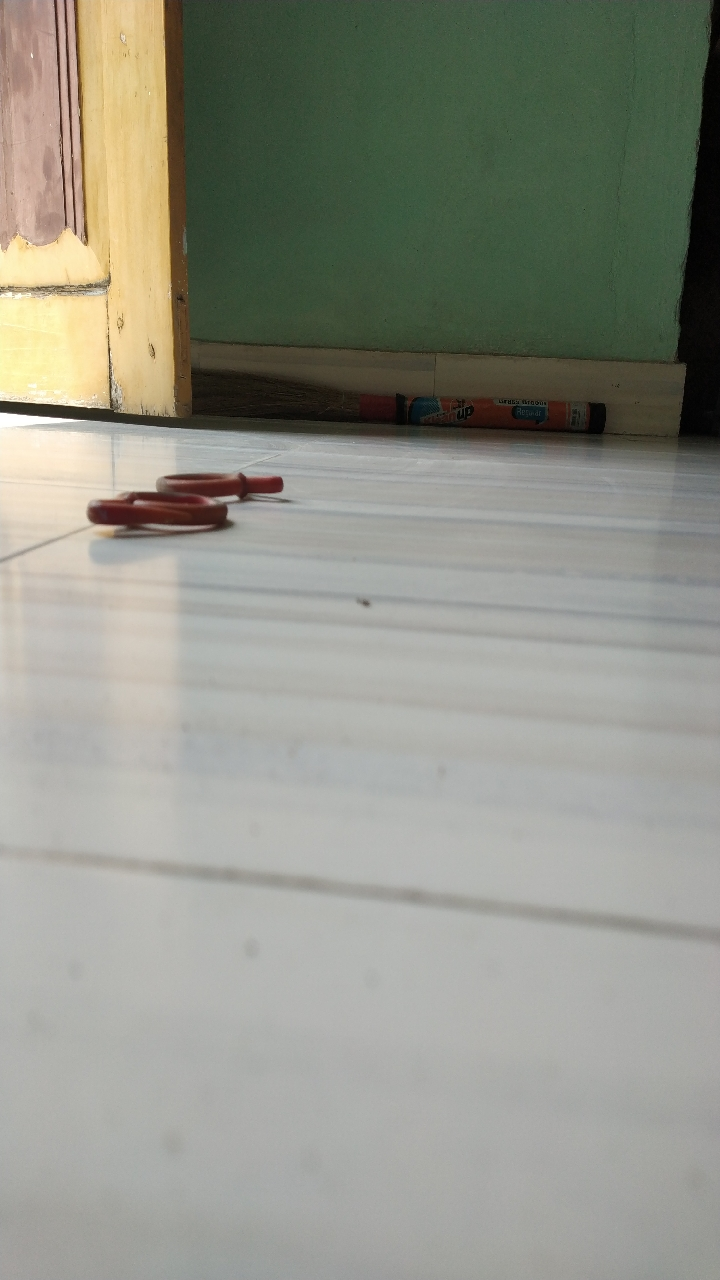Doors: (1, 10, 217, 434)
garments: (155, 460, 309, 507), (83, 488, 232, 535)
